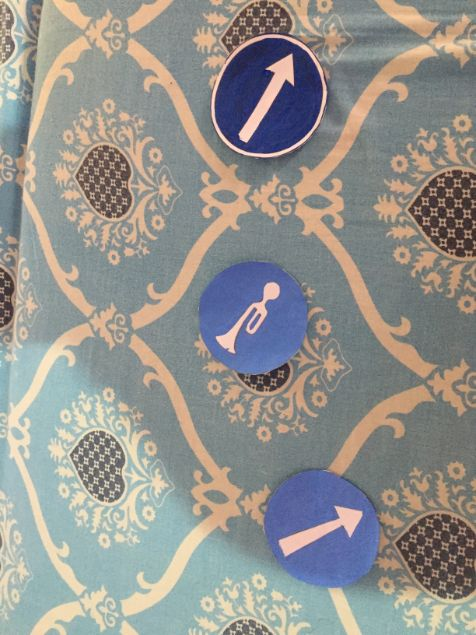blow-horn: (195, 258, 316, 379)
go-stright: (208, 35, 336, 163)
keep-left: (263, 466, 387, 590)
